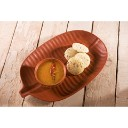idly: (66, 59, 85, 75), (74, 53, 91, 68), (74, 43, 89, 54), (64, 48, 79, 58)
